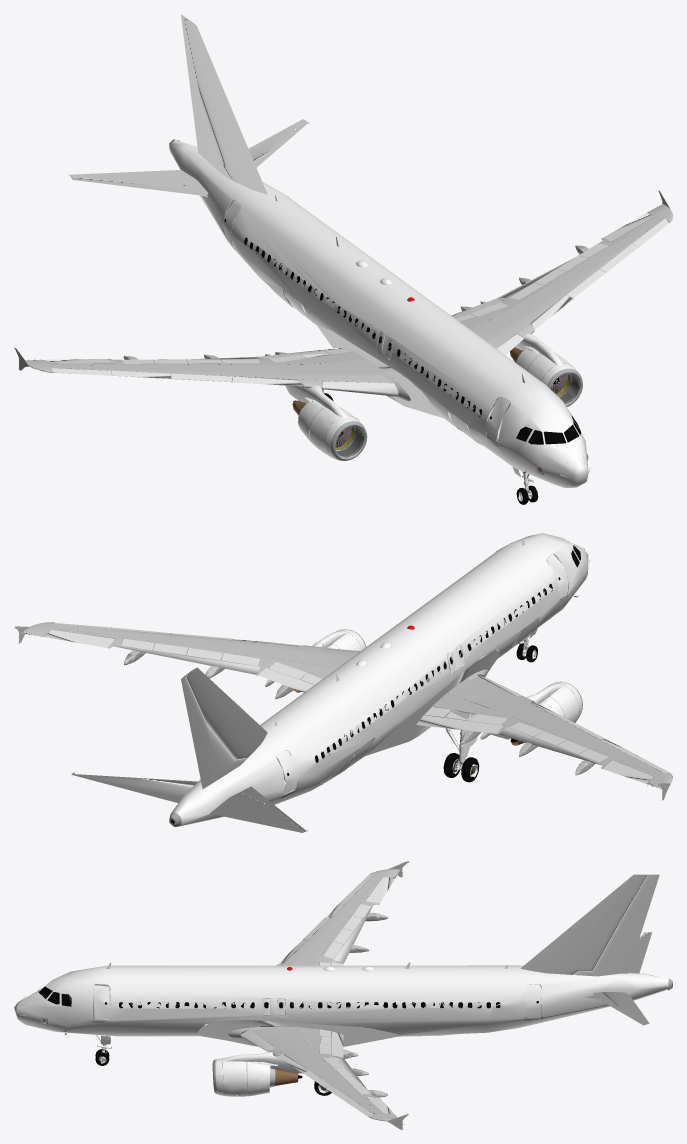
File: a320neo.glb
The picture shows the model from 3 angles, top to bottom: view 1: azimuth 30°, elevation 25°; view 2: azimuth 150°, elevation 25°; view 3: azimuth 270°, elevation 25°; orthographic projection. The views are drawn at different scales.
Visible parts, largest first — view 1: Object_4, Object_112; view 2: Object_4, Object_112; view 3: Object_112, Object_4.
Part boxes in pixels (left/top/right/bottom): Object_4: left=14, top=14, right=672, bottom=504; Object_112: left=170, top=139, right=588, bottom=487; Object_4: left=14, top=538, right=672, bottom=832; Object_112: left=170, top=533, right=588, bottom=826; Object_112: left=14, top=965, right=668, bottom=1036; Object_4: left=20, top=861, right=672, bottom=1129.
Size of the model in its own units: 34.12 by 11.9 by 37.57.
2 materials, 2 textured.
